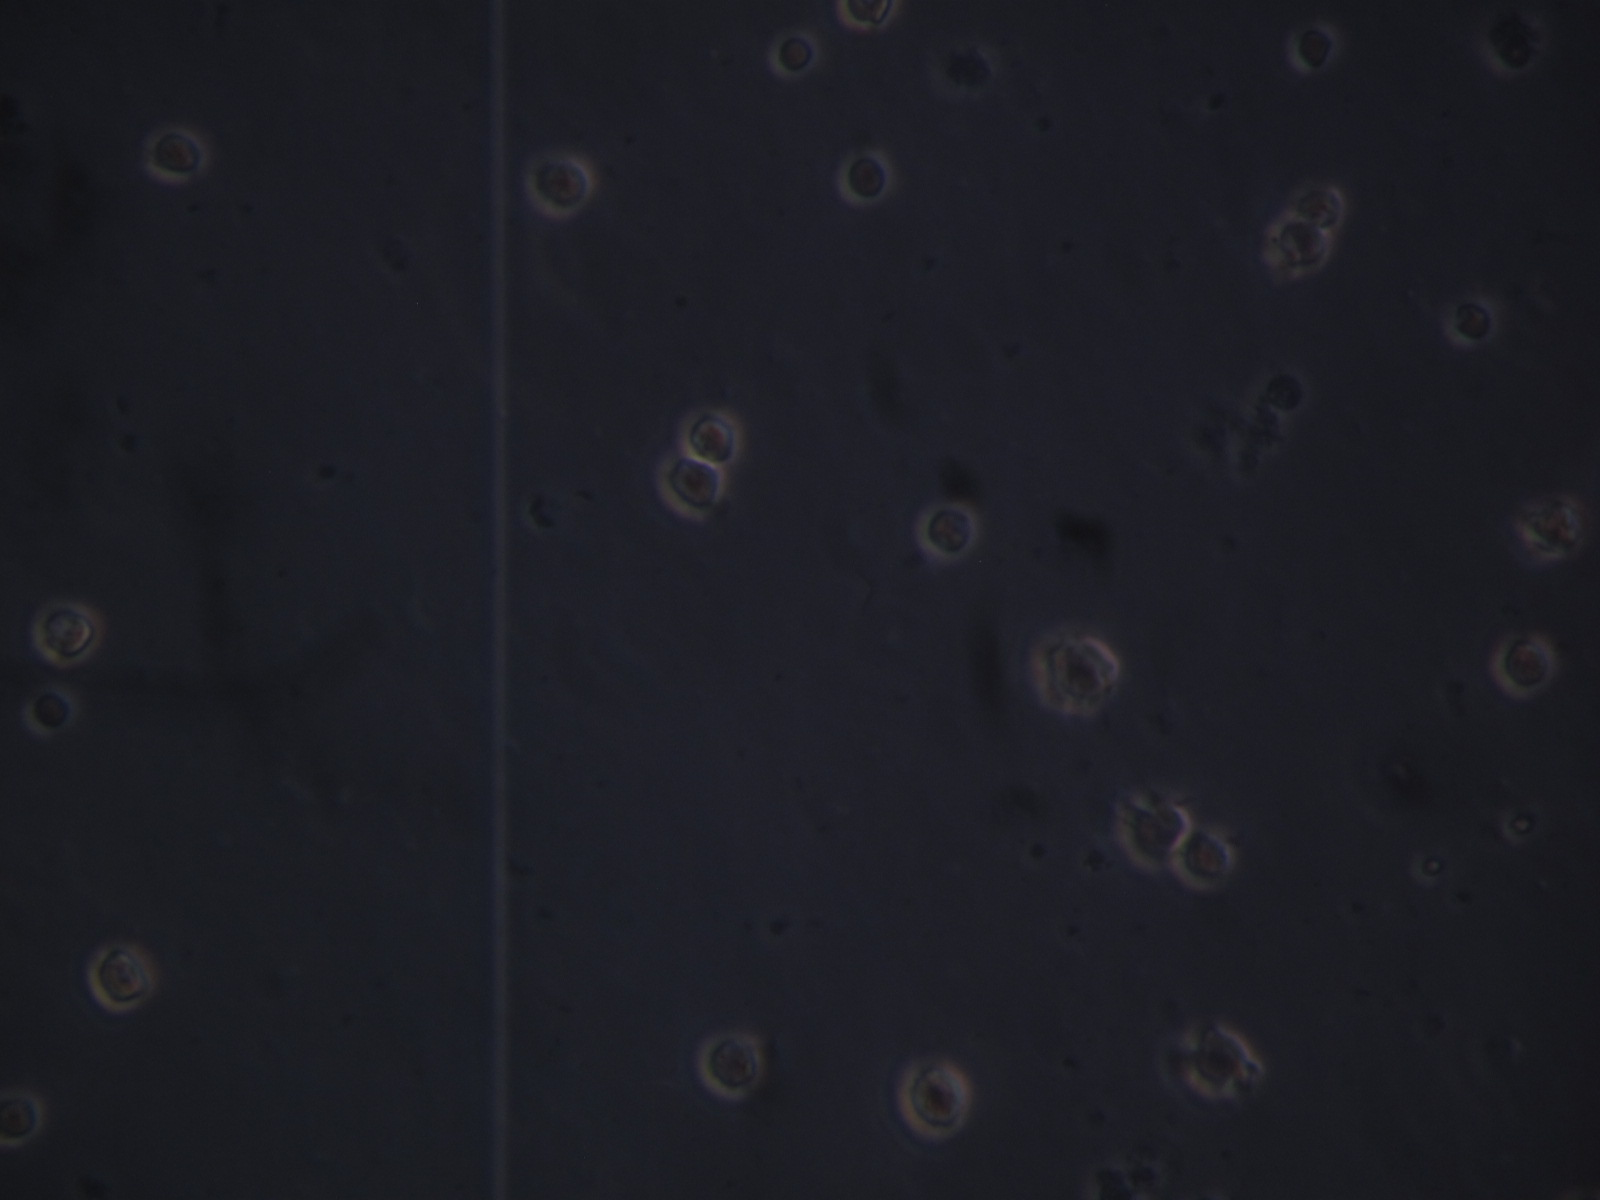hemo: (1047, 624, 1123, 718), (900, 1055, 971, 1142), (1111, 794, 1188, 874), (1186, 1016, 1254, 1100), (695, 1027, 766, 1103), (525, 146, 596, 218), (88, 940, 154, 1017), (33, 597, 102, 666), (912, 494, 978, 563), (659, 451, 724, 518), (1175, 824, 1238, 894), (678, 408, 745, 470), (144, 124, 210, 183), (838, 142, 896, 211), (1519, 497, 1582, 558), (1265, 214, 1330, 274), (1490, 633, 1552, 695), (1286, 18, 1340, 76), (1448, 292, 1498, 350), (763, 29, 825, 76), (26, 681, 74, 740), (1, 1085, 44, 1145), (830, 1, 905, 28)
